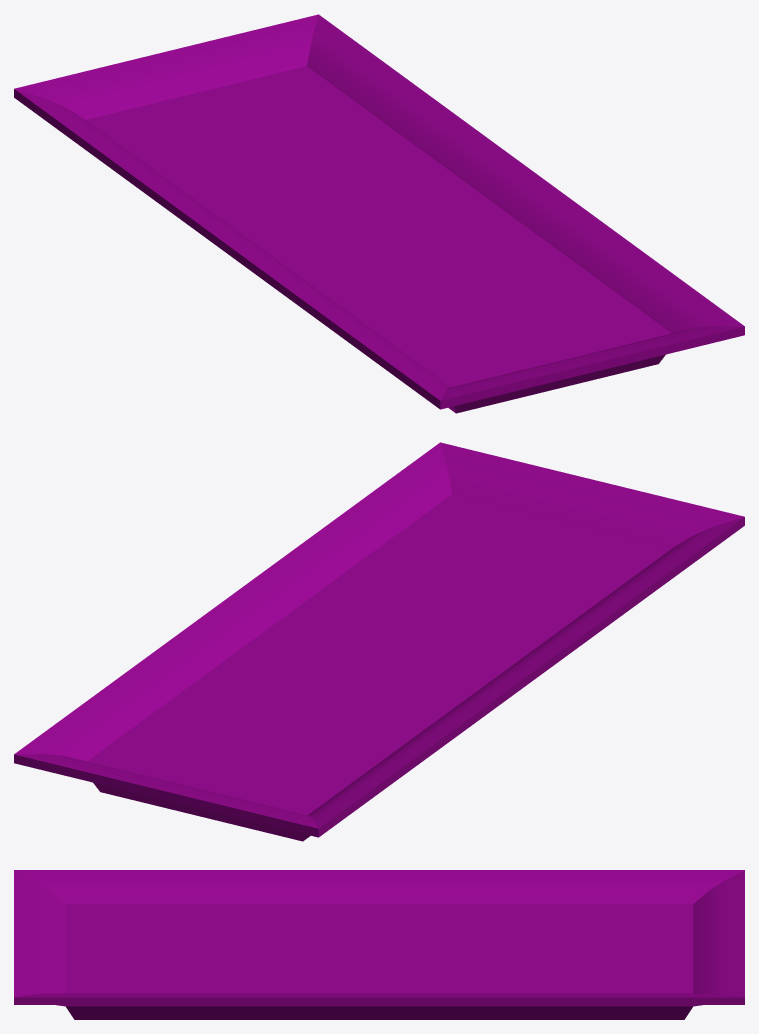
File: Tray.FBX
The picture shows the model from 3 angles, top to bottom: view 1: azimuth 30°, elevation 25°; view 2: azimuth 150°, elevation 25°; view 3: azimuth 270°, elevation 25°; orthographic projection. The views are drawn at different scales.
Visible parts, largest first — view 1: PRP_Tray_1; view 2: PRP_Tray_1; view 3: PRP_Tray_1.
Part boxes in pixels (box(x1,y1,x2,y2)): PRP_Tray_1: box(14, 14, 744, 413); PRP_Tray_1: box(14, 442, 744, 841); PRP_Tray_1: box(14, 870, 744, 1019).
Bounding box in the file's own units: 35.24 × 5.64 × 85.38.
